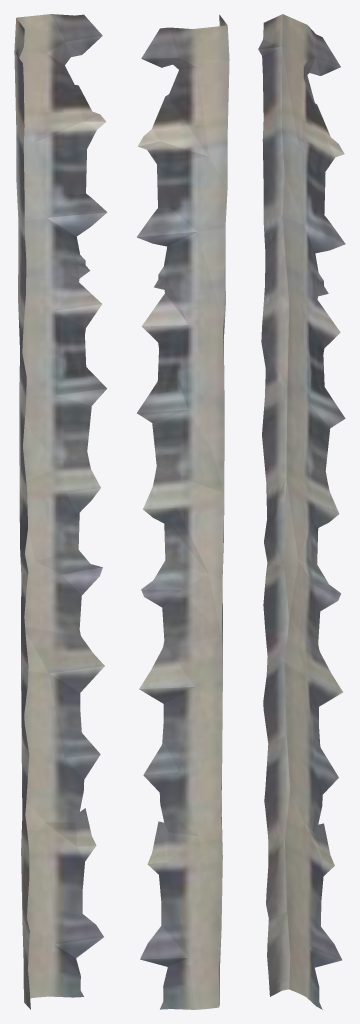
The model's file is Tile_+004_+002_L20_000470.glb.
3 renders of one model, left to right at view 1: azimuth 30°, elevation 25°; view 2: azimuth 210°, elevation 25°; view 3: azimuth 330°, elevation 25°, orthographic.
Parts seen in each view (by area): view 1: rtc; view 2: rtc; view 3: rtc.
Part boxes in pixels (left/top/right/bottom): rtc: left=14, top=14, right=107, bottom=1009; rtc: left=137, top=14, right=229, bottom=1009; rtc: left=258, top=14, right=345, bottom=1009.
Bounding box in the file's own units: 2.27 × 24.02 × 0.6554.
Materials: 1 (1 with a texture image).
